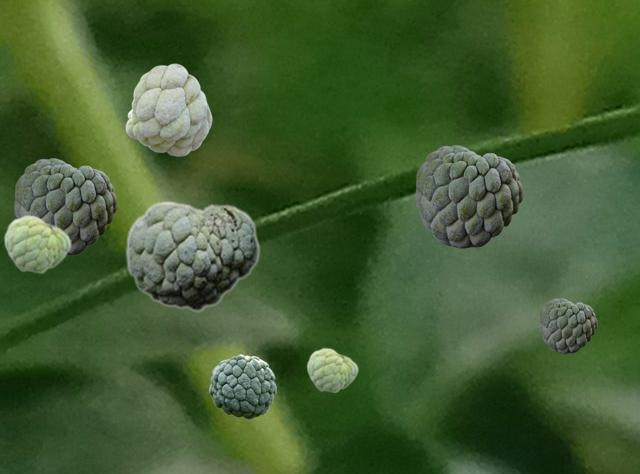atis: (125, 200, 259, 311), (415, 145, 522, 247), (14, 158, 116, 255), (125, 63, 211, 155), (209, 354, 275, 418), (3, 214, 70, 273), (539, 298, 596, 352), (306, 347, 357, 392)
